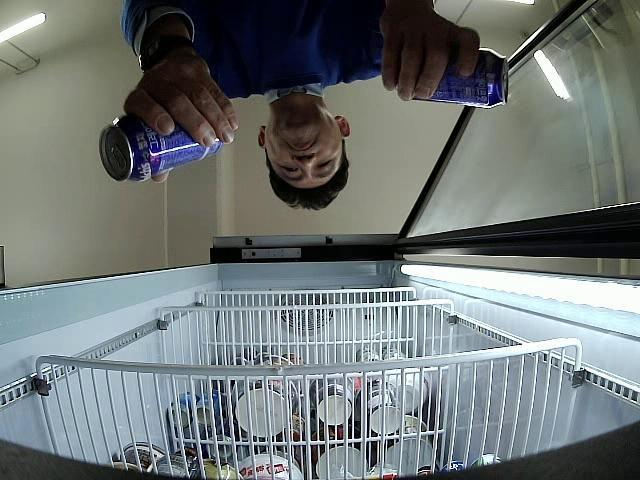14_welchsGrape: (98, 114, 223, 181), (414, 48, 509, 109)
